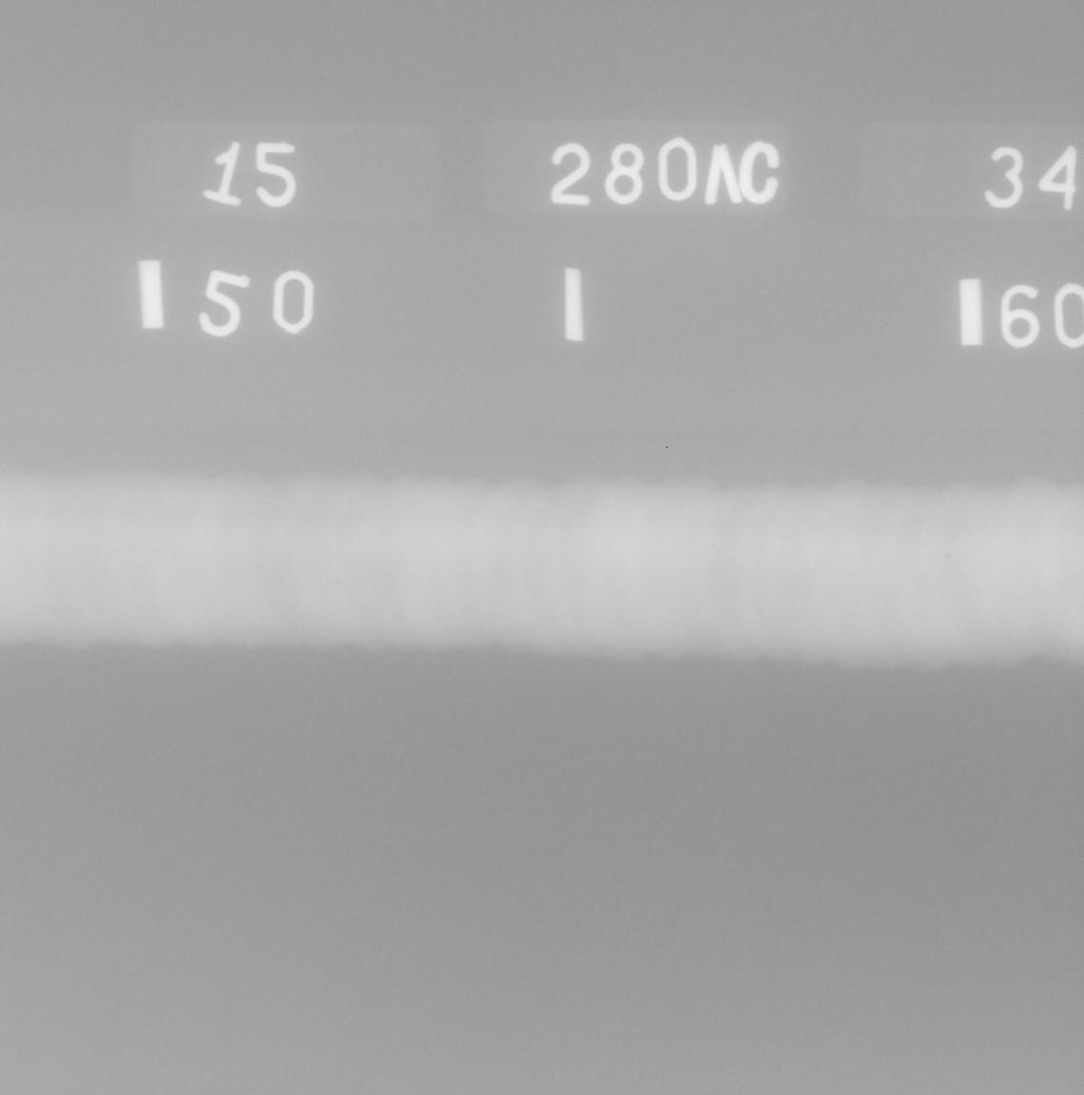Pore/Porosity: (332, 576, 341, 585), (945, 554, 953, 561)
